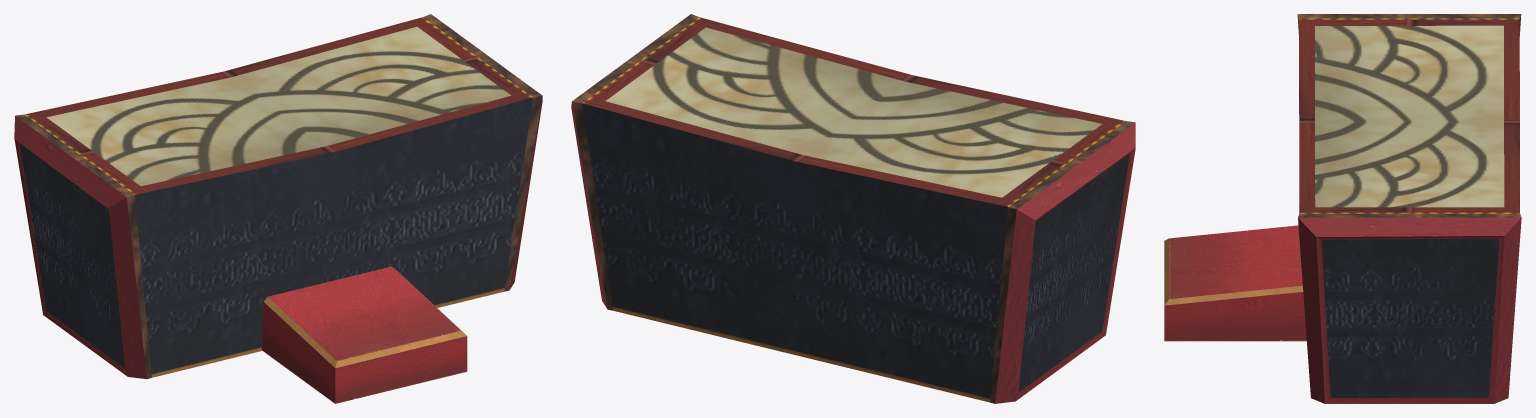
The model's file is MainAltar_Art.fbx.
3 renders of one model, left to right at view 1: azimuth 30°, elevation 25°; view 2: azimuth 150°, elevation 25°; view 3: azimuth 270°, elevation 25°, orthographic. The views are drawn at different scales.
Visible parts, largest first — view 1: MainAltar_Art; view 2: MainAltar_Art; view 3: MainAltar_Art.
Part boxes in pixels (left/top/right/bottom): MainAltar_Art: left=14, top=14, right=542, bottom=403; MainAltar_Art: left=571, top=14, right=1135, bottom=403; MainAltar_Art: left=1164, top=14, right=1521, bottom=403.
Size of the model in its own units: 2.92 by 1.24 by 2.08.
